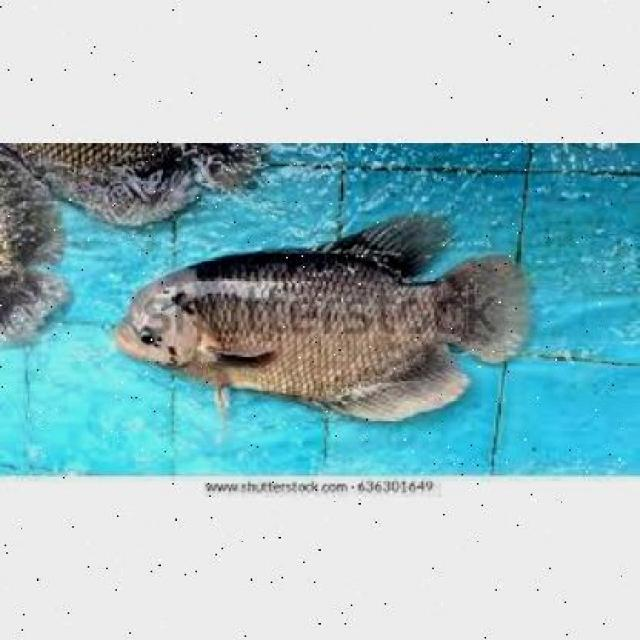gurame: (109, 237, 500, 425)
